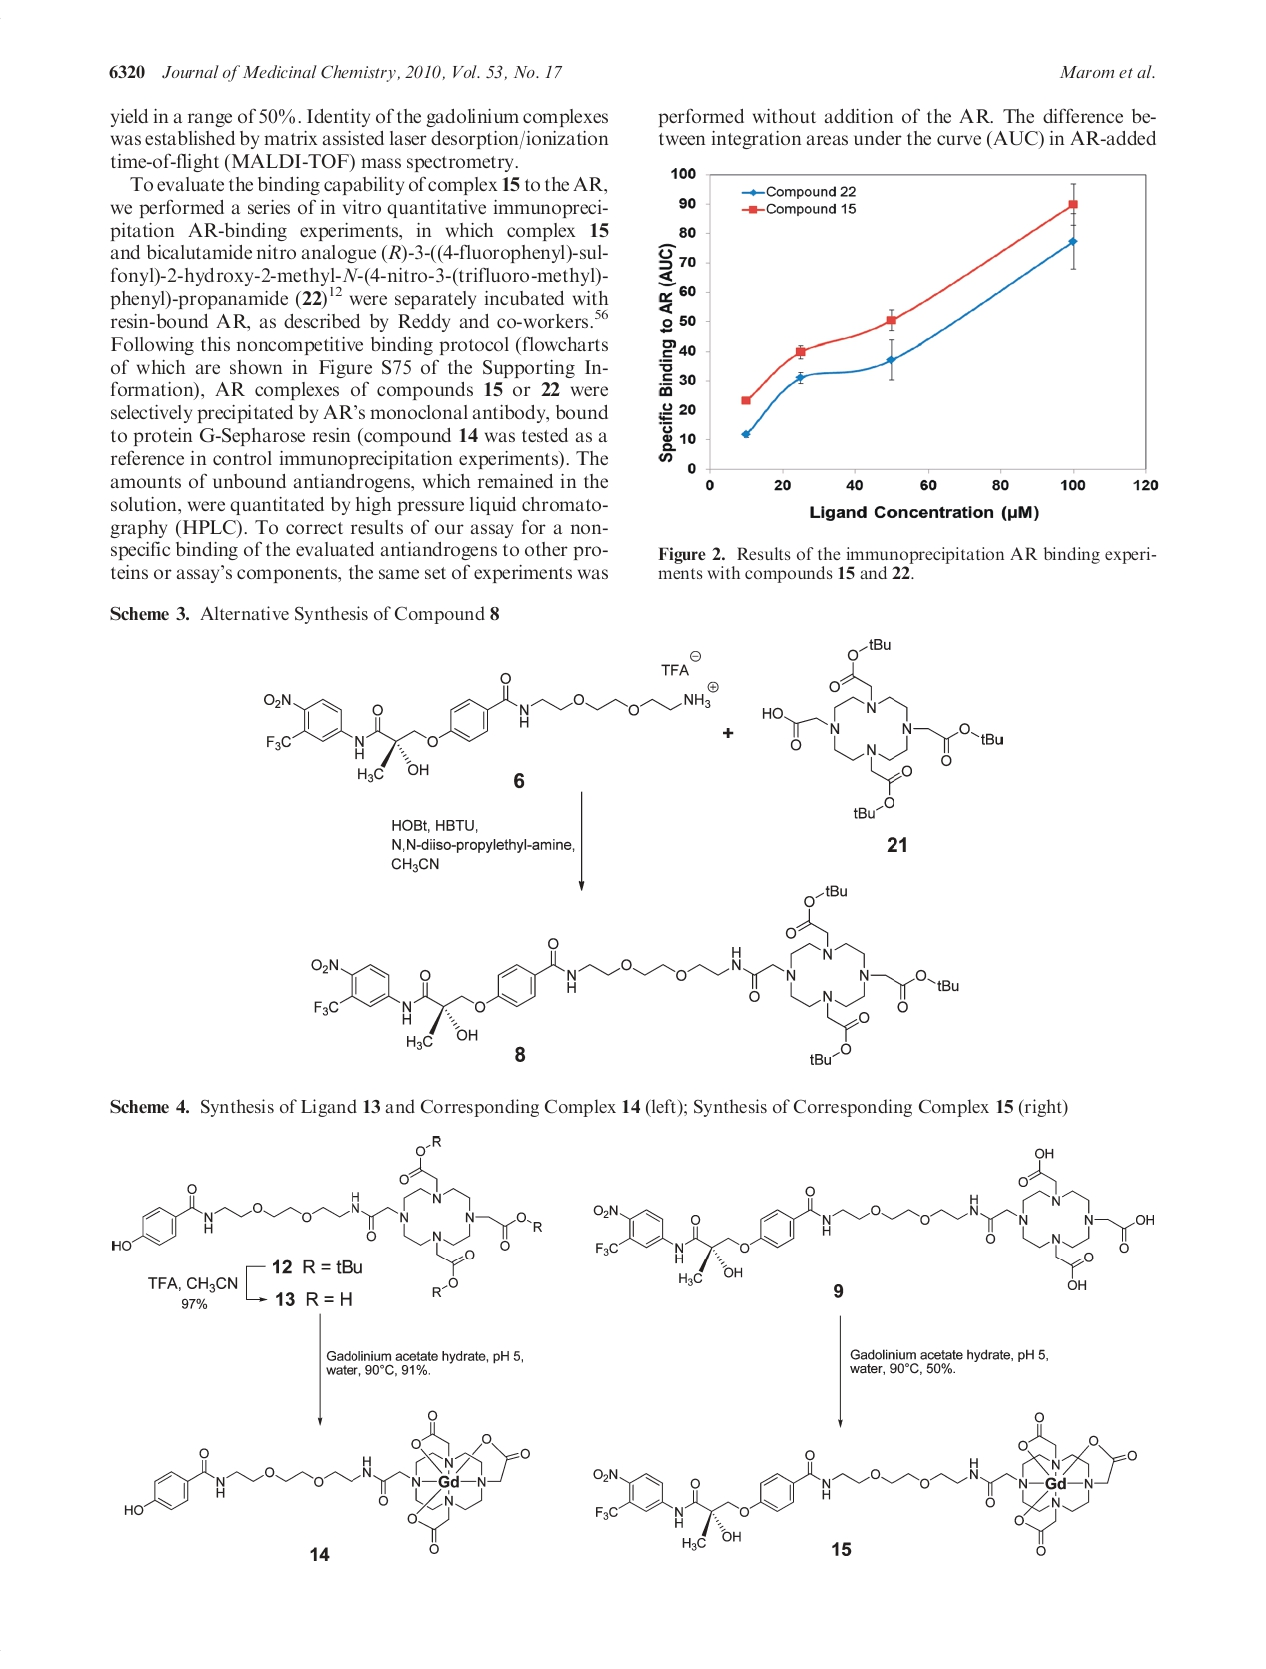exist_molecular: (309, 884, 961, 1067), (592, 1146, 1156, 1293), (590, 1410, 1138, 1557), (109, 1134, 545, 1301), (122, 1408, 531, 1556), (263, 670, 721, 785), (763, 634, 1008, 822)
